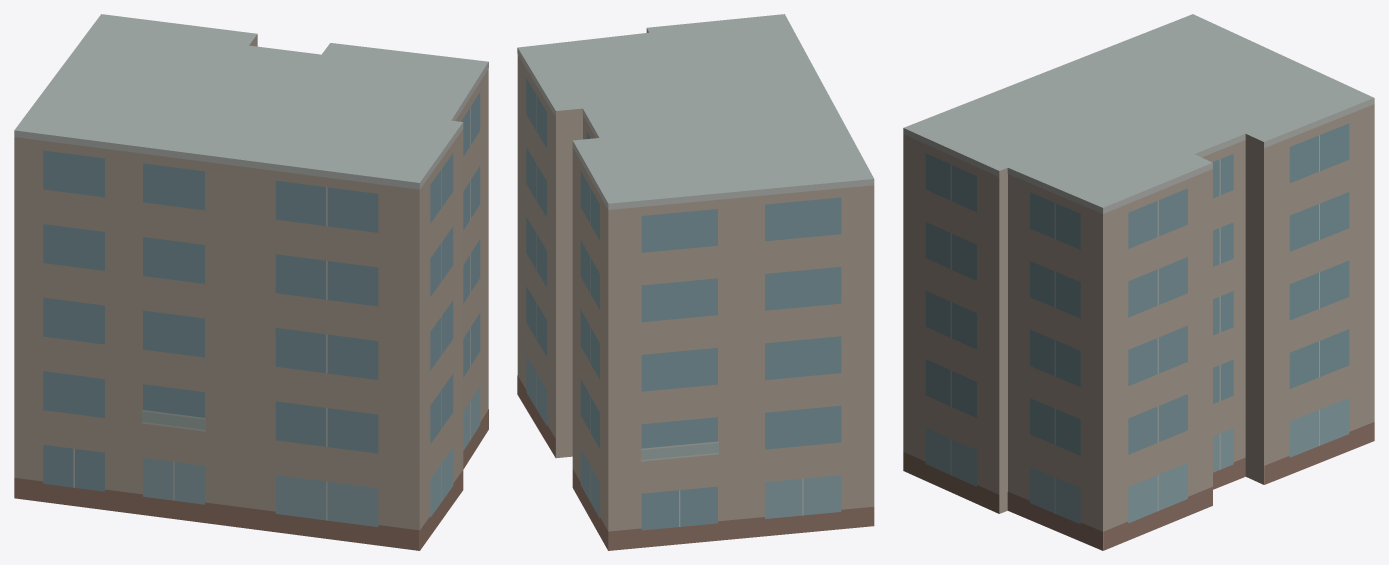
The model's file is survey-upis-32863031.glb.
3 renders of one model, left to right at view 1: azimuth 30°, elevation 25°; view 2: azimuth 150°, elevation 25°; view 3: azimuth 270°, elevation 25°, orthographic. The views are drawn at different scales.
Visible parts, largest first — view 1: survey-upis-32863031.tmp; view 2: survey-upis-32863031.tmp; view 3: survey-upis-32863031.tmp.
Part boxes in pixels (box(x1,y1,x2,y2)): survey-upis-32863031.tmp: box(14, 14, 488, 550); survey-upis-32863031.tmp: box(517, 14, 874, 550); survey-upis-32863031.tmp: box(903, 14, 1374, 550).
Bounding box in the file's own units: 16.38 × 13.5 × 16.82.
